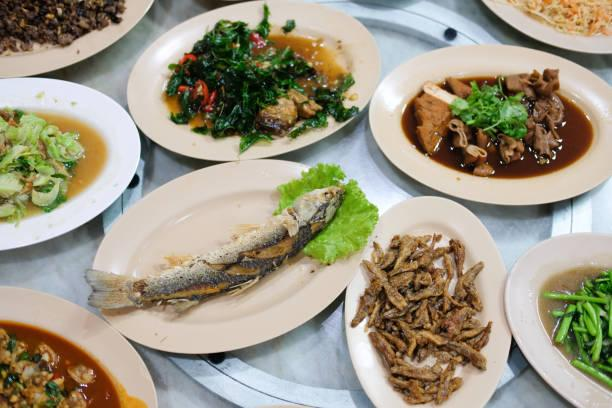Braised Crucian Carp: (91, 158, 363, 353), (125, 1, 376, 161), (369, 43, 612, 205), (341, 195, 513, 406)
